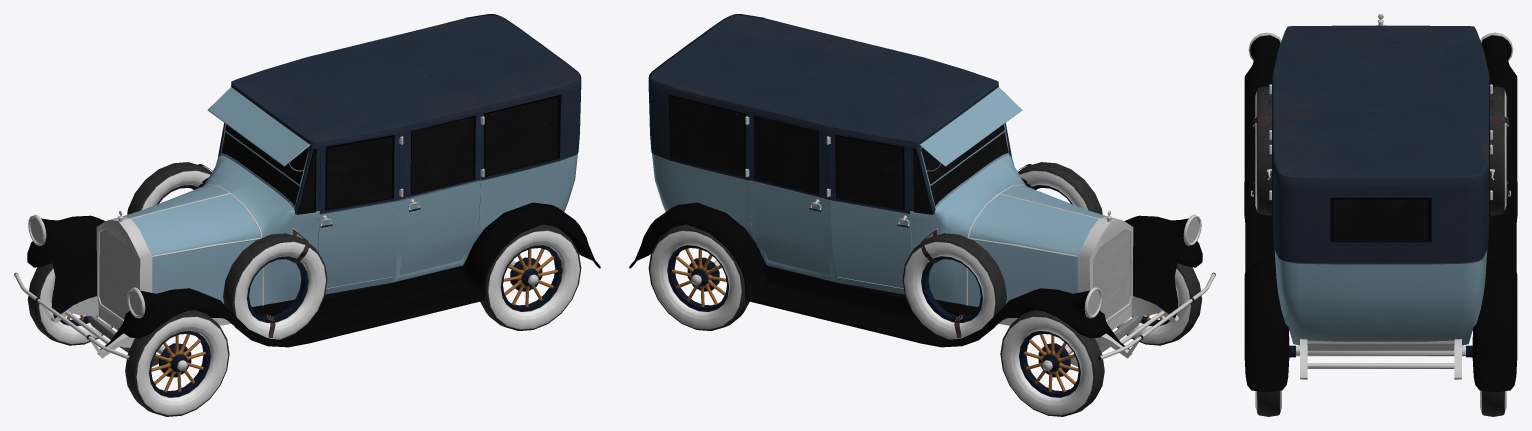
The model's file is 1920s_pierce_arrow.glb.
3 views of the same model, side by side, from view 1: azimuth 30°, elevation 25°; view 2: azimuth 150°, elevation 25°; view 3: azimuth 270°, elevation 25° (orthographic). The views are drawn at different scales.
Visible parts, largest first — view 1: Object_2, Object_4, Object_3, Object_5; view 2: Object_2, Object_5, Object_3, Object_4; view 3: Object_2, Object_5, Object_4, Object_3.
Boxes of the visible parts, x1,y1,x2,y2 form: Object_2: [14, 14, 581, 366]; Object_4: [100, 94, 600, 349]; Object_3: [27, 162, 581, 416]; Object_5: [27, 164, 212, 318]; Object_2: [648, 14, 1215, 366]; Object_5: [629, 94, 1129, 349]; Object_3: [648, 162, 1202, 416]; Object_4: [1017, 164, 1202, 318]; Object_2: [1271, 14, 1490, 379]; Object_5: [1472, 32, 1517, 391]; Object_4: [1244, 32, 1289, 391]; Object_3: [1255, 86, 1506, 416].
Size of the model in its own units: 457 by 209 by 193.
4 materials, 4 textured.
